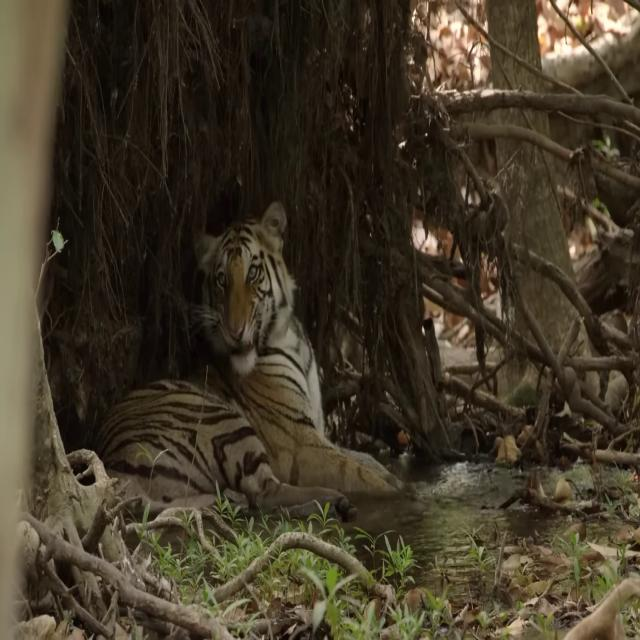tiger: (94, 196, 422, 524)
